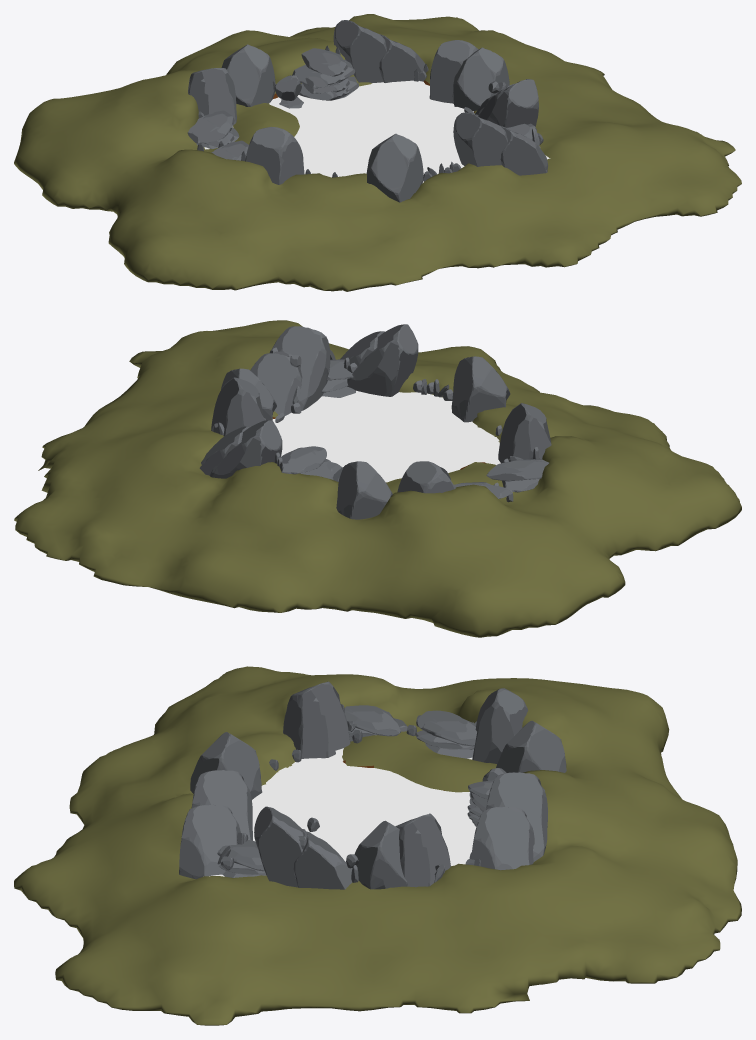
The model's file is LittleScene.glb.
3 views of the same model, one above another, from view 1: azimuth 30°, elevation 25°; view 2: azimuth 150°, elevation 25°; view 3: azimuth 270°, elevation 25° (orthographic). The views are drawn at different scales.
Visible parts, largest first — view 1: Mball.310, Plane, Cube.022, Cube.002, Cube.021, Cube.027, Cube.023, Cube.001, Cube.025, Cube.003, Cube.028, Cube.024 (+6 smaller); view 2: Mball.310, Plane, Cube.023, Cube.022, Cube.025, Cube.002, Cube.021, Cube.001, Cube.028, Cube.026, Cube.003, Cube.037 (+4 smaller); view 3: Mball.310, Plane, Cube.021, Cube.024, Cube.017, Cube.028, Cube.025, Cube.003, Cube.001, Cube.027, Cube.002, Cube.023 (+5 smaller).
Boxes of the visible parts, x1=… form: Mball.310: x1=14, y1=14, x2=741, y2=291; Plane: x1=204, y1=80, x2=550, y2=182; Cube.022: x1=366, y1=133, x2=423, y2=202; Cube.002: x1=221, y1=44, x2=275, y2=106; Cube.021: x1=245, y1=126, x2=304, y2=184; Cube.027: x1=453, y1=47, x2=509, y2=111; Cube.023: x1=453, y1=112, x2=507, y2=166; Cube.001: x1=333, y1=20, x2=386, y2=82; Cube.025: x1=478, y1=79, x2=538, y2=127; Cube.003: x1=188, y1=68, x2=236, y2=124; Cube.028: x1=429, y1=40, x2=478, y2=103; Cube.024: x1=500, y1=125, x2=548, y2=175; Mball.310: x1=14, y1=320, x2=741, y2=637; Plane: x1=272, y1=390, x2=500, y2=482; Cube.023: x1=347, y1=324, x2=418, y2=396; Cube.022: x1=451, y1=356, x2=510, y2=422; Cube.025: x1=271, y1=326, x2=330, y2=410; Cube.002: x1=336, y1=461, x2=392, y2=519; Cube.021: x1=498, y1=403, x2=551, y2=463; Cube.001: x1=210, y1=420, x2=282, y2=478; Cube.028: x1=211, y1=377, x2=264, y2=436; Cube.026: x1=250, y1=353, x2=302, y2=415; Cube.003: x1=397, y1=461, x2=455, y2=493; Cube.037: x1=486, y1=459, x2=548, y2=480; Mball.310: x1=14, y1=666, x2=741, y2=1025; Plane: x1=209, y1=748, x2=476, y2=876; Cube.021: x1=283, y1=681, x2=350, y2=758; Cube.024: x1=179, y1=804, x2=240, y2=879; Cube.017: x1=471, y1=806, x2=534, y2=870; Cube.028: x1=395, y1=813, x2=450, y2=887; Cube.025: x1=254, y1=806, x2=303, y2=887; Cube.003: x1=472, y1=688, x2=528, y2=763; Cube.001: x1=486, y1=772, x2=547, y2=861; Cube.027: x1=354, y1=820, x2=407, y2=889; Cube.002: x1=496, y1=720, x2=566, y2=772; Cube.023: x1=191, y1=770, x2=252, y2=840.
Size of what is drawn, in the model's own units: 91.11 by 15.8 by 83.03.
